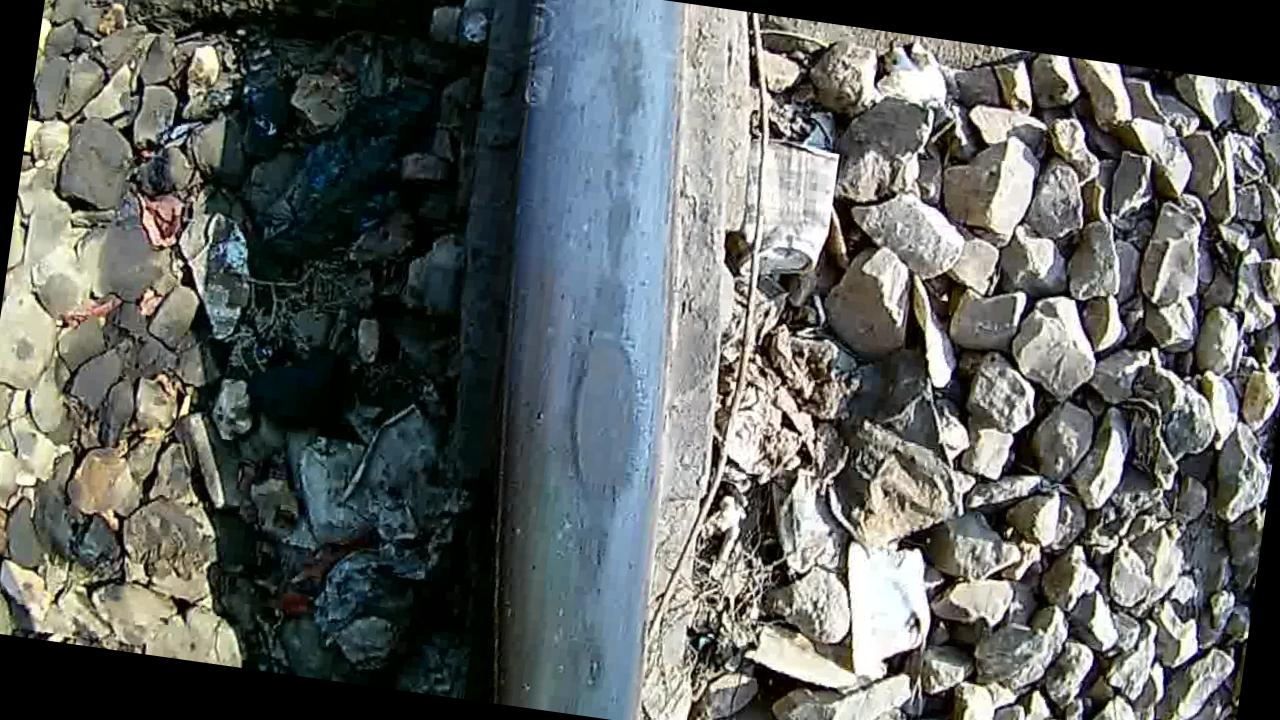bolt_missing: (459, 0, 707, 719)
